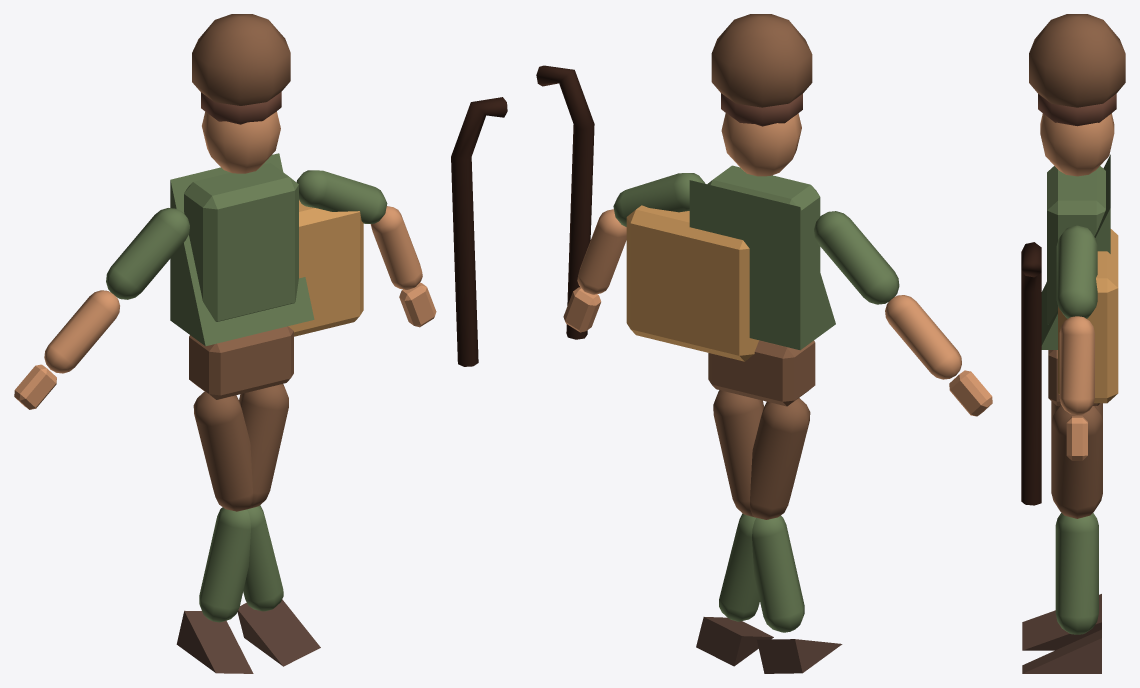
File: adventurer.rustic.glb
The picture shows the model from 3 angles, left to right: view 1: azimuth 30°, elevation 25°; view 2: azimuth 150°, elevation 25°; view 3: azimuth 270°, elevation 25°; orthographic projection.
Visible parts, largest first — view 1: torso, accessory.head, accessory.back, tunic, accessory.main-hand, pelvis, thigh.left, shin.right, upper-arm.left, thigh.right, head, forearm.left (+8 smaller); view 2: accessory.back, tunic, accessory.head, thigh.left, accessory.main-hand, pelvis, shin.right, upper-arm.left, thigh.right, head, forearm.left, torso (+8 smaller); view 3: accessory.head, accessory.main-hand, shin.left, thigh.right, torso, accessory.back, upper-arm.right, head, forearm.right, foot.left, foot.right, tunic (+3 smaller).
Part boxes in pixels (left/top/right/bottom): torso: left=184, top=163, right=298, bottom=321; accessory.head: left=192, top=14, right=290, bottom=105; accessory.back: left=288, top=200, right=363, bottom=336; tunic: left=170, top=153, right=314, bottom=346; accessory.main-hand: left=451, top=97, right=507, bottom=366; pelvis: left=189, top=326, right=293, bottom=399; thigh.left: left=193, top=391, right=252, bottom=511; shin.right: left=199, top=507, right=250, bottom=622; upper-arm.left: left=106, top=208, right=189, bottom=299; thigh.right: left=239, top=384, right=288, bottom=508; head: left=202, top=111, right=280, bottom=173; forearm.left: left=44, top=290, right=119, bottom=373; accessory.back: left=626, top=205, right=758, bottom=361; tunic: left=689, top=180, right=835, bottom=350; accessory.head: left=711, top=14, right=812, bottom=107; thigh.left: left=750, top=398, right=810, bottom=519; accessory.main-hand: left=536, top=65, right=594, bottom=339; pelvis: left=708, top=340, right=815, bottom=406; shin.right: left=752, top=515, right=804, bottom=632; upper-arm.left: left=814, top=211, right=899, bottom=304; thigh.right: left=713, top=390, right=764, bottom=517; head: left=721, top=113, right=801, bottom=176; forearm.left: left=885, top=295, right=961, bottom=379; torso: left=707, top=165, right=820, bottom=271; accessory.head: left=1029, top=14, right=1125, bottom=107; accessory.main-hand: left=1021, top=242, right=1041, bottom=505; shin.left: left=1055, top=514, right=1098, bottom=634; thigh.right: left=1051, top=406, right=1102, bottom=518; torso: left=1047, top=166, right=1105, bottom=324; accessory.back: left=1058, top=229, right=1118, bottom=403; upper-arm.right: left=1056, top=225, right=1097, bottom=318; head: left=1040, top=113, right=1114, bottom=176; forearm.right: left=1059, top=316, right=1094, bottom=415; foot.left: left=1022, top=629, right=1101, bottom=673; foot.right: left=1022, top=594, right=1101, bottom=650; tunic: left=1041, top=154, right=1110, bottom=349.
Size of the model in its own units: 2.52 by 3.28 by 0.4848.
